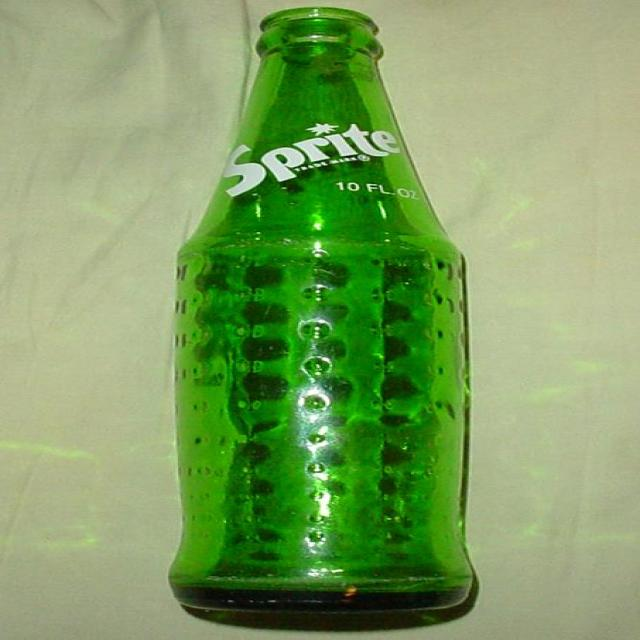Soda: (167, 6, 480, 633)
